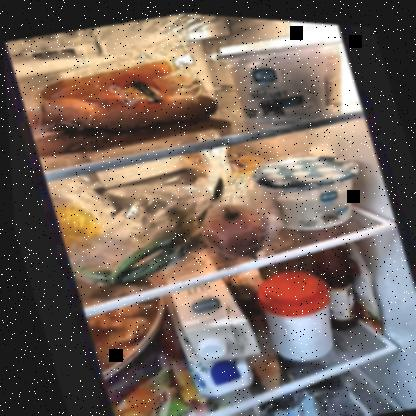broccoli: (246, 375, 371, 415)
carrot: (17, 40, 221, 163)
green_chillies: (76, 214, 204, 290)
lemon: (49, 192, 104, 254)
milk: (161, 275, 265, 396)
tomato: (197, 192, 272, 256)
yoghurt: (214, 20, 355, 128), (250, 135, 373, 235)
